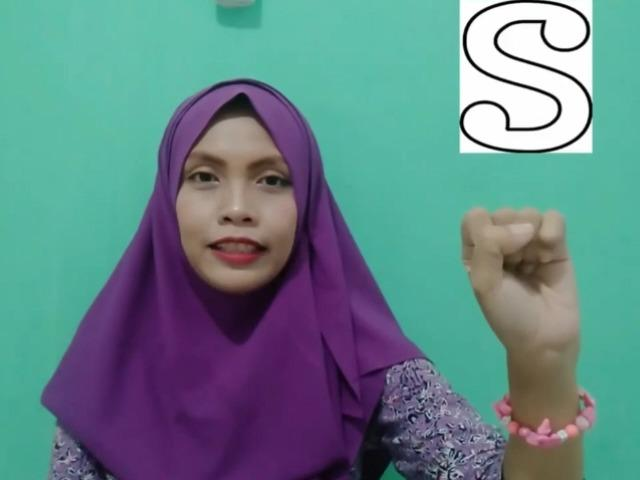S: (458, 198, 584, 348)
